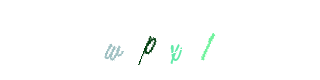1: (147, 0, 227, 80)
P: (108, 0, 188, 80)
W: (96, 0, 176, 80)
X: (120, 0, 200, 80)
